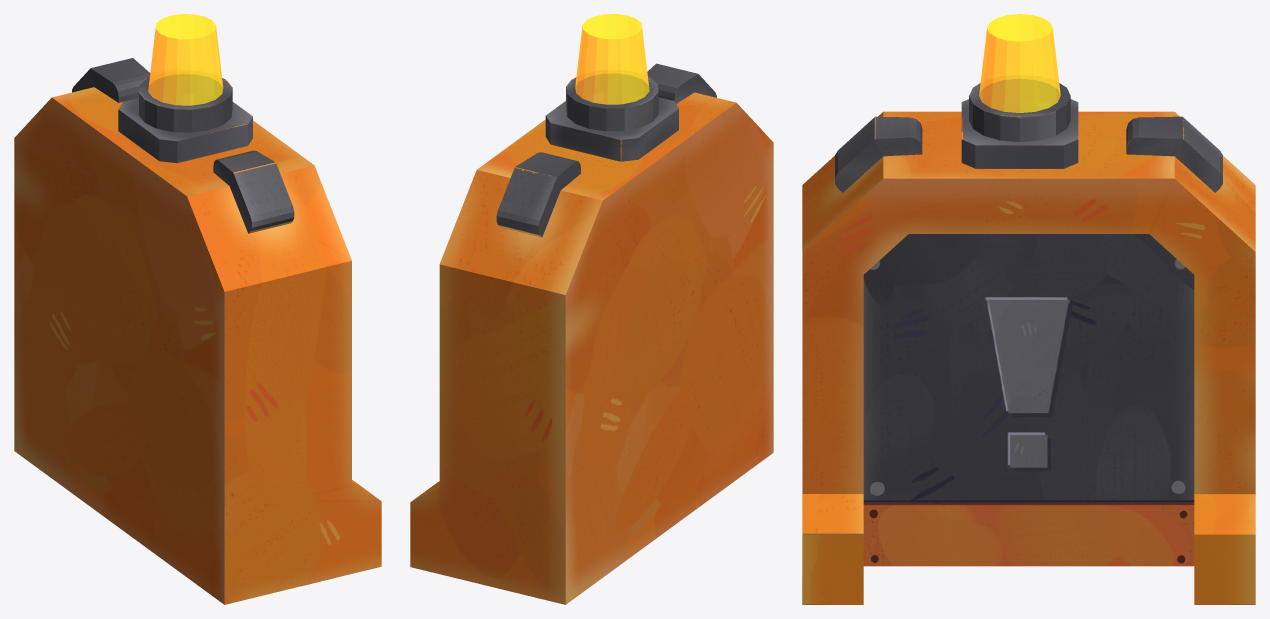
File: Door.glb
The picture shows the model from 3 angles, left to right: view 1: azimuth 30°, elevation 25°; view 2: azimuth 150°, elevation 25°; view 3: azimuth 270°, elevation 25°; orthographic projection. The views are drawn at different scales.
Parts seen in each view (by area): view 1: Cylinder; view 2: Cylinder; view 3: Cylinder.001, Cylinder.
Part boxes in pixels (x1=…): Cylinder: x1=14, y1=14, x2=381, y2=604; Cylinder: x1=410, y1=14, x2=773, y2=604; Cylinder.001: x1=863, y1=234, x2=1194, y2=566; Cylinder: x1=802, y1=14, x2=1255, y2=604.
Size of the model in its own units: 0.4315 by 1.28 by 1.
Materials: 4 (3 with a texture image).
